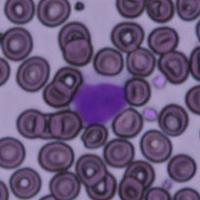L: (68, 74, 130, 129)
